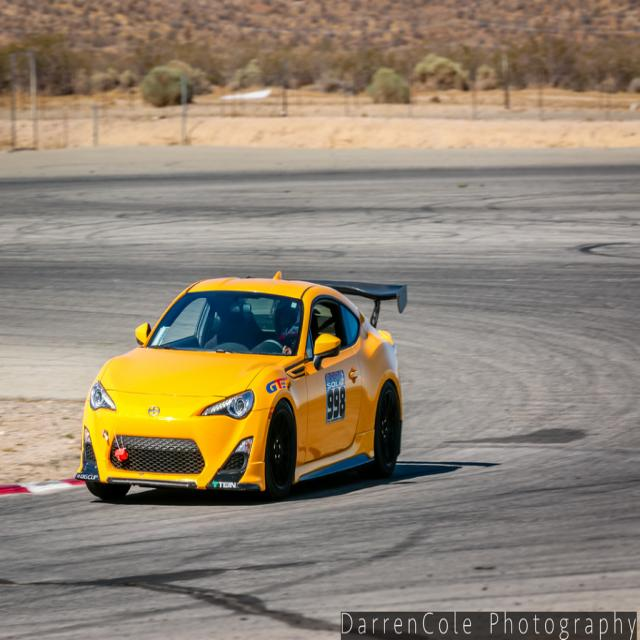car: (73, 264, 405, 507)
